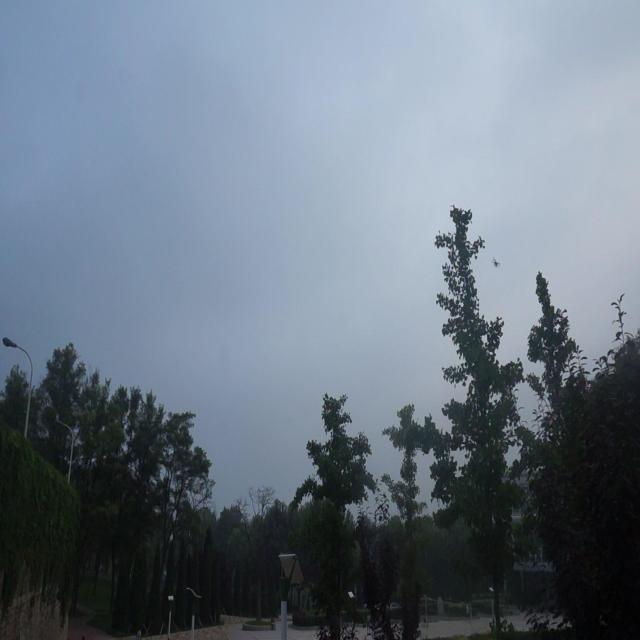drone: (492, 255, 500, 273)
